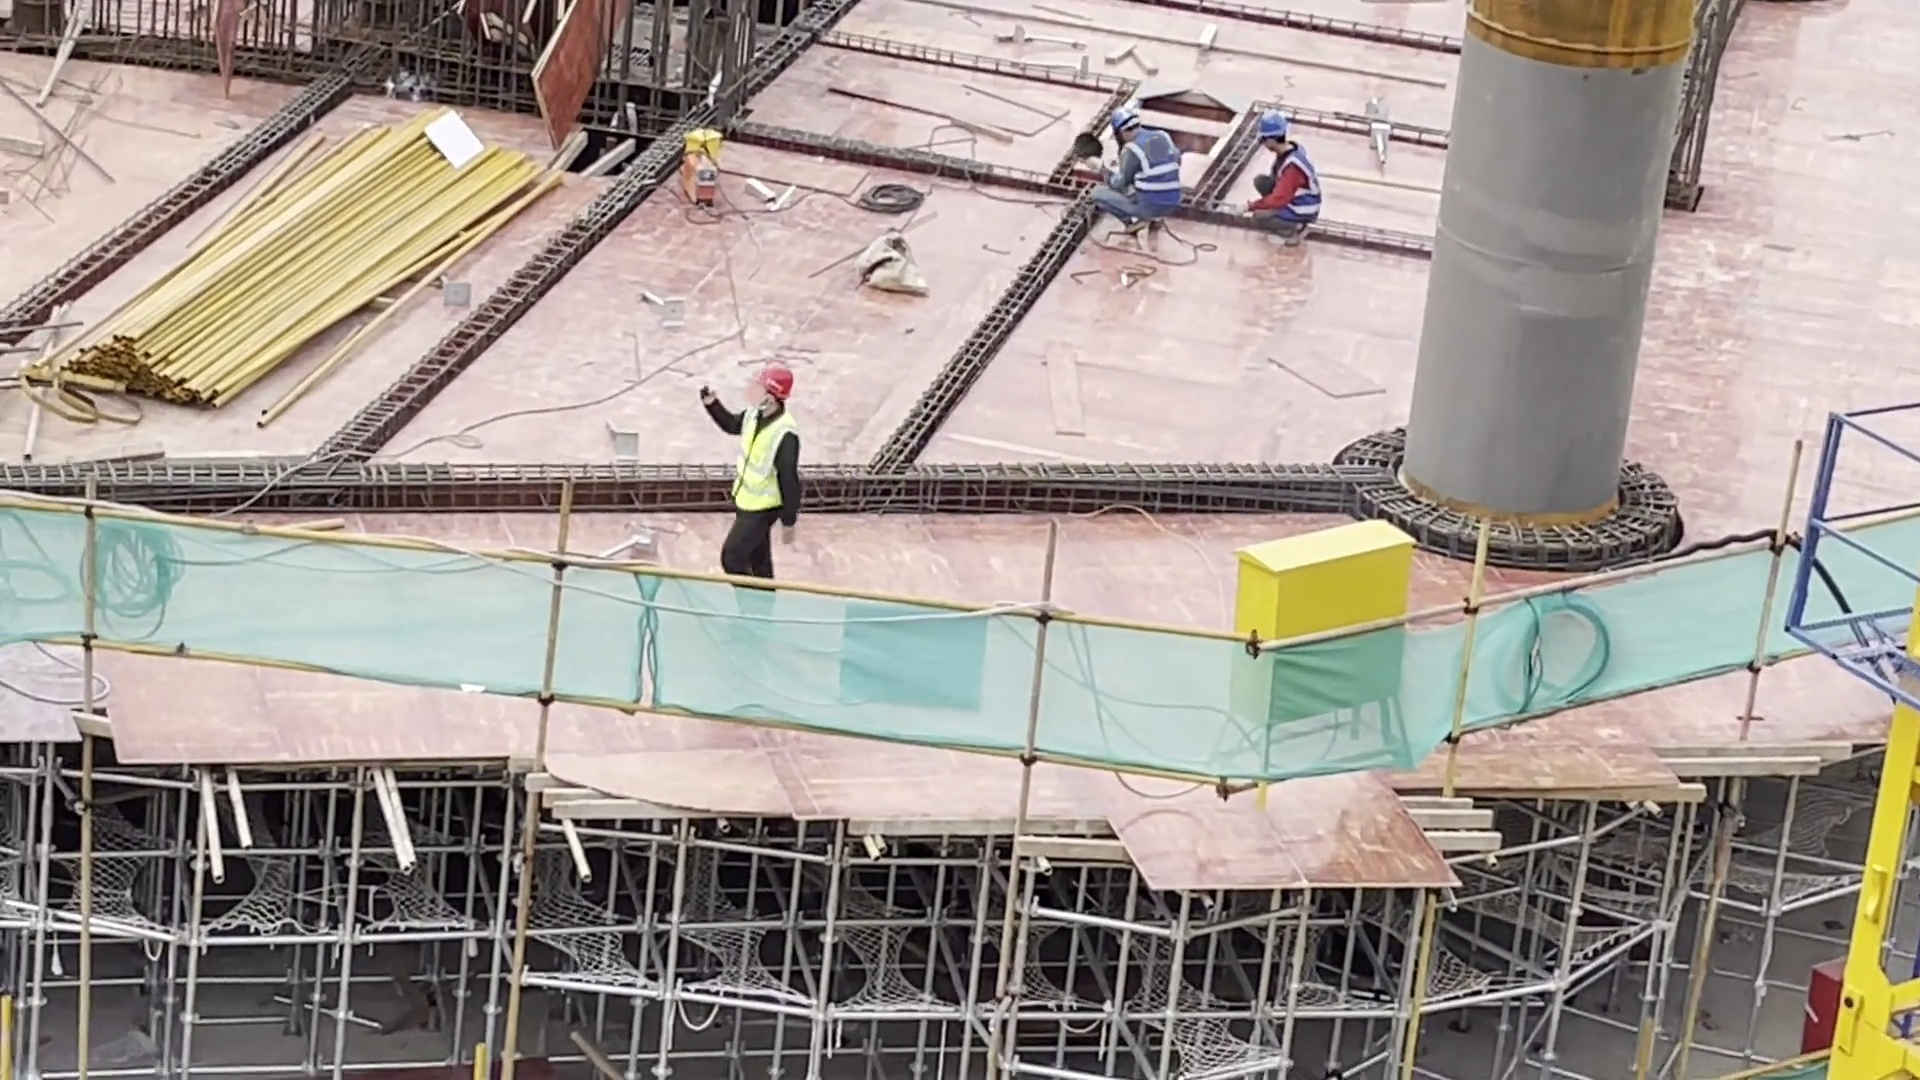helmet: (753, 359, 794, 401), (1252, 110, 1287, 141), (1110, 104, 1139, 134)
person: (695, 361, 804, 586), (1082, 99, 1186, 268), (1246, 108, 1322, 252)
vest: (729, 399, 800, 516), (1120, 130, 1183, 217), (1266, 150, 1326, 226)
